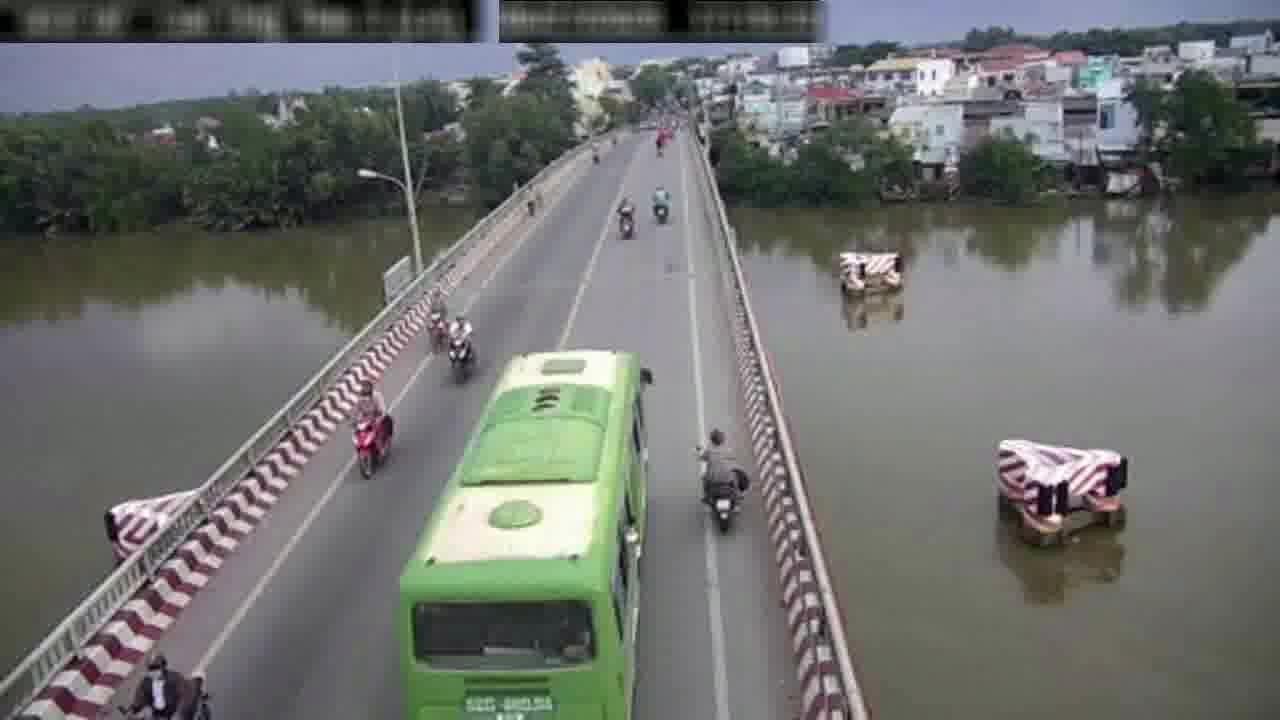14: (396, 342, 648, 720)
motorbike: (698, 415, 742, 535), (349, 370, 392, 483), (444, 307, 471, 382), (425, 288, 450, 355), (649, 181, 671, 227), (615, 193, 635, 238)
